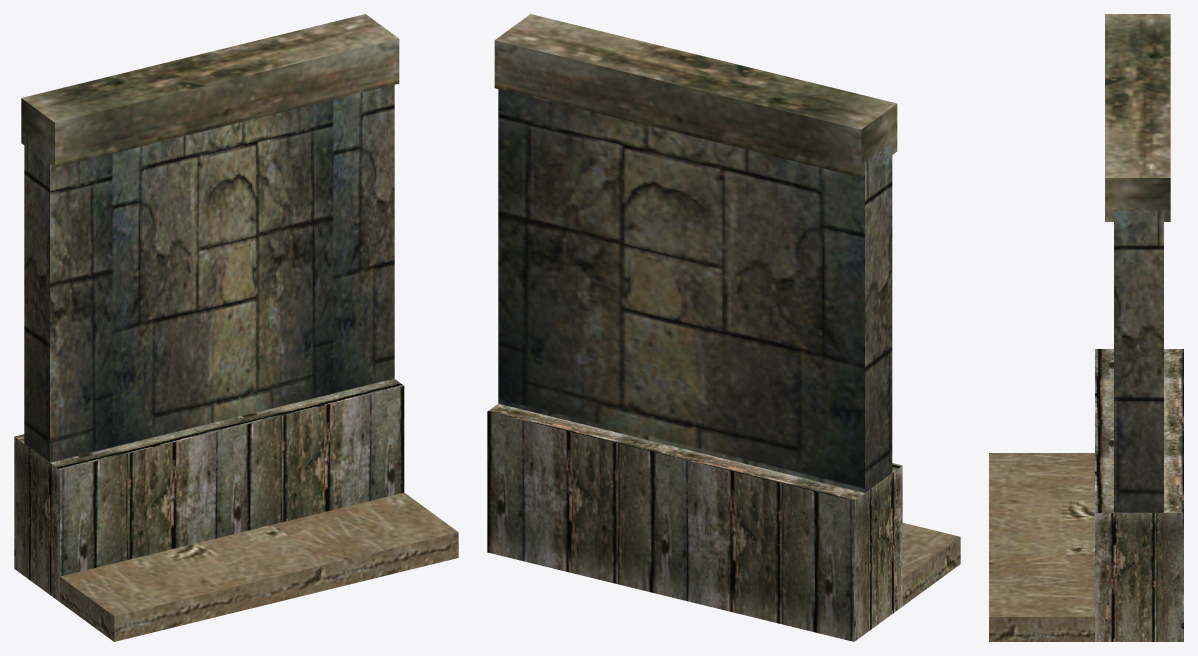
The model's file is HouseWall01.glb.
3 renders of one model, left to right at view 1: azimuth 30°, elevation 25°; view 2: azimuth 150°, elevation 25°; view 3: azimuth 270°, elevation 25°, orthographic. The views are drawn at different scales.
Visible parts, largest first — view 1: HouseWall01; view 2: HouseWall01; view 3: HouseWall01.
Part boxes in pixels (x1,y1,x2,y2): HouseWall01: (14, 14, 458, 641); HouseWall01: (487, 14, 960, 641); HouseWall01: (989, 14, 1183, 641).
Size of the model in its own units: 2 by 2.64 by 1.
Materials: 3 (3 with a texture image).
